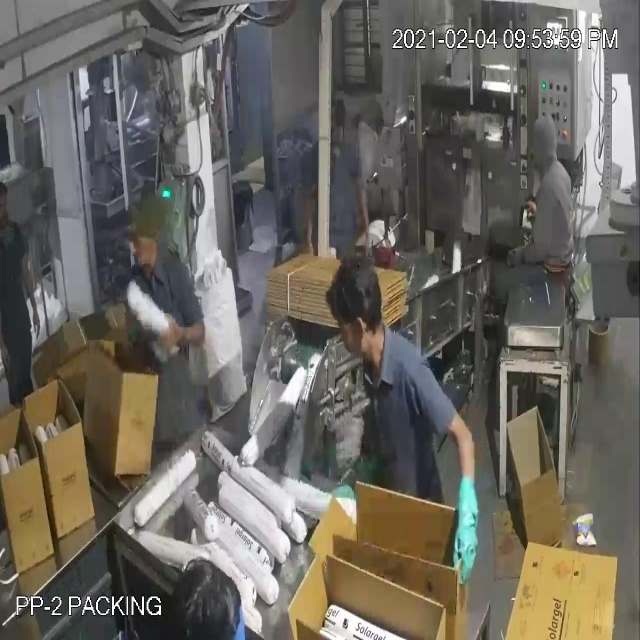Guantes: (437, 441, 488, 598)
Sin_guantes: (145, 296, 210, 360), (356, 170, 387, 285), (300, 170, 324, 276)
